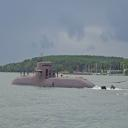submarine: (12, 63, 116, 90)
